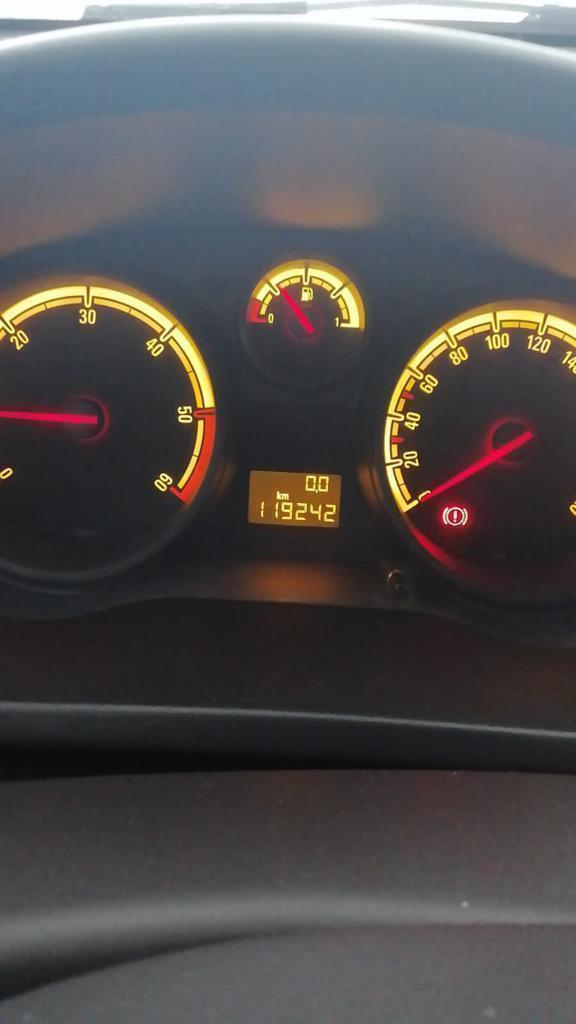,: (315, 488, 318, 493)
0: (318, 475, 330, 492), (304, 475, 315, 490)
1: (258, 499, 265, 518), (273, 501, 279, 520)
2: (324, 503, 336, 522), (295, 502, 307, 520)
4: (309, 502, 321, 520)
9: (280, 501, 293, 520)
X: (281, 492, 290, 499), (276, 489, 281, 499)
odometer: (244, 468, 343, 530)
